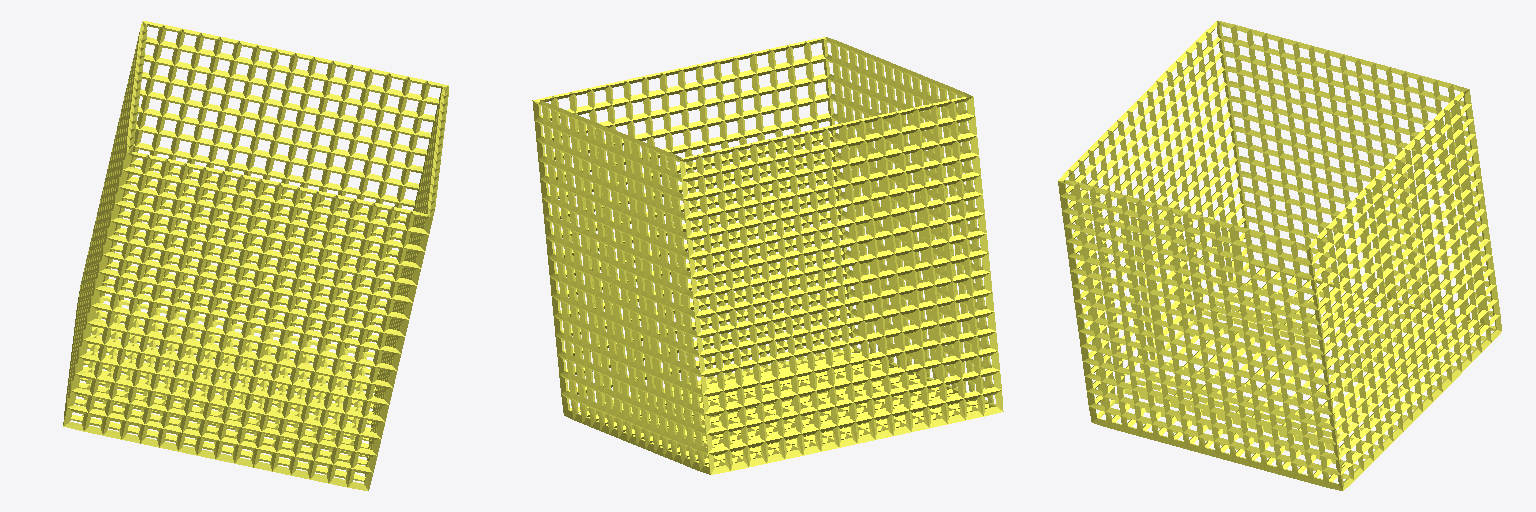
The robot description file, URDF, robot "cube.urdf":
<?xml version="0.0" ?>
<robot name="cube.urdf">
  <link name="baseLink">
    <contact>
      <lateral_friction value="1.0"/>
     
    </contact>
    <inertial>
      <origin rpy="0 0 0" xyz="0 0 -0.15"/>
       <mass value=".0"/>
       <inertia ixx="0" ixy="0" ixz="0" iyy="0" iyz="0" izz="0"/>
    </inertial>
    <visual>
      <origin rpy="0 0 0" xyz="0 0 -0.15"/>
      <geometry>
        <mesh filename="Crate.obj" scale=".005 .005 .005"/>
      </geometry>
       <material name="yellow">
        <color rgba="1 1 0.4 1"/>
      </material>
    </visual>
    <collision>
      <origin rpy="0 0 0" xyz="0 0 -0.15"/>
      <geometry>
	 	<mesh filename="Crate.obj" scale=".005 .005 .005"/>
      </geometry>
    </collision>
  </link>
</robot>

--- What the picture shows (computed from the rendered views, not written in the file) ---
Views: 3 orthographic renders of the robot side by side, from view 1: azimuth 30°, elevation 25°; view 2: azimuth 150°, elevation 25°; view 3: azimuth 270°, elevation 25°.
Model cube.urdf with 1 links and 0 joints (none), rooted at baseLink, posed every joint at zero.
Visible links, largest first — view 1: baseLink; view 2: baseLink; view 3: baseLink.
Link boxes in pixels (x1=…): baseLink: x1=63, y1=21, x2=448, y2=490; baseLink: x1=532, y1=37, x2=1003, y2=474; baseLink: x1=1058, y1=21, x2=1501, y2=490.
Size in the robot's own frame: 0.0443 by 0.0427 by 0.034 metres.
Meshes: 1 distinct files referenced, 1 mesh visuals loaded (1 OBJ).
